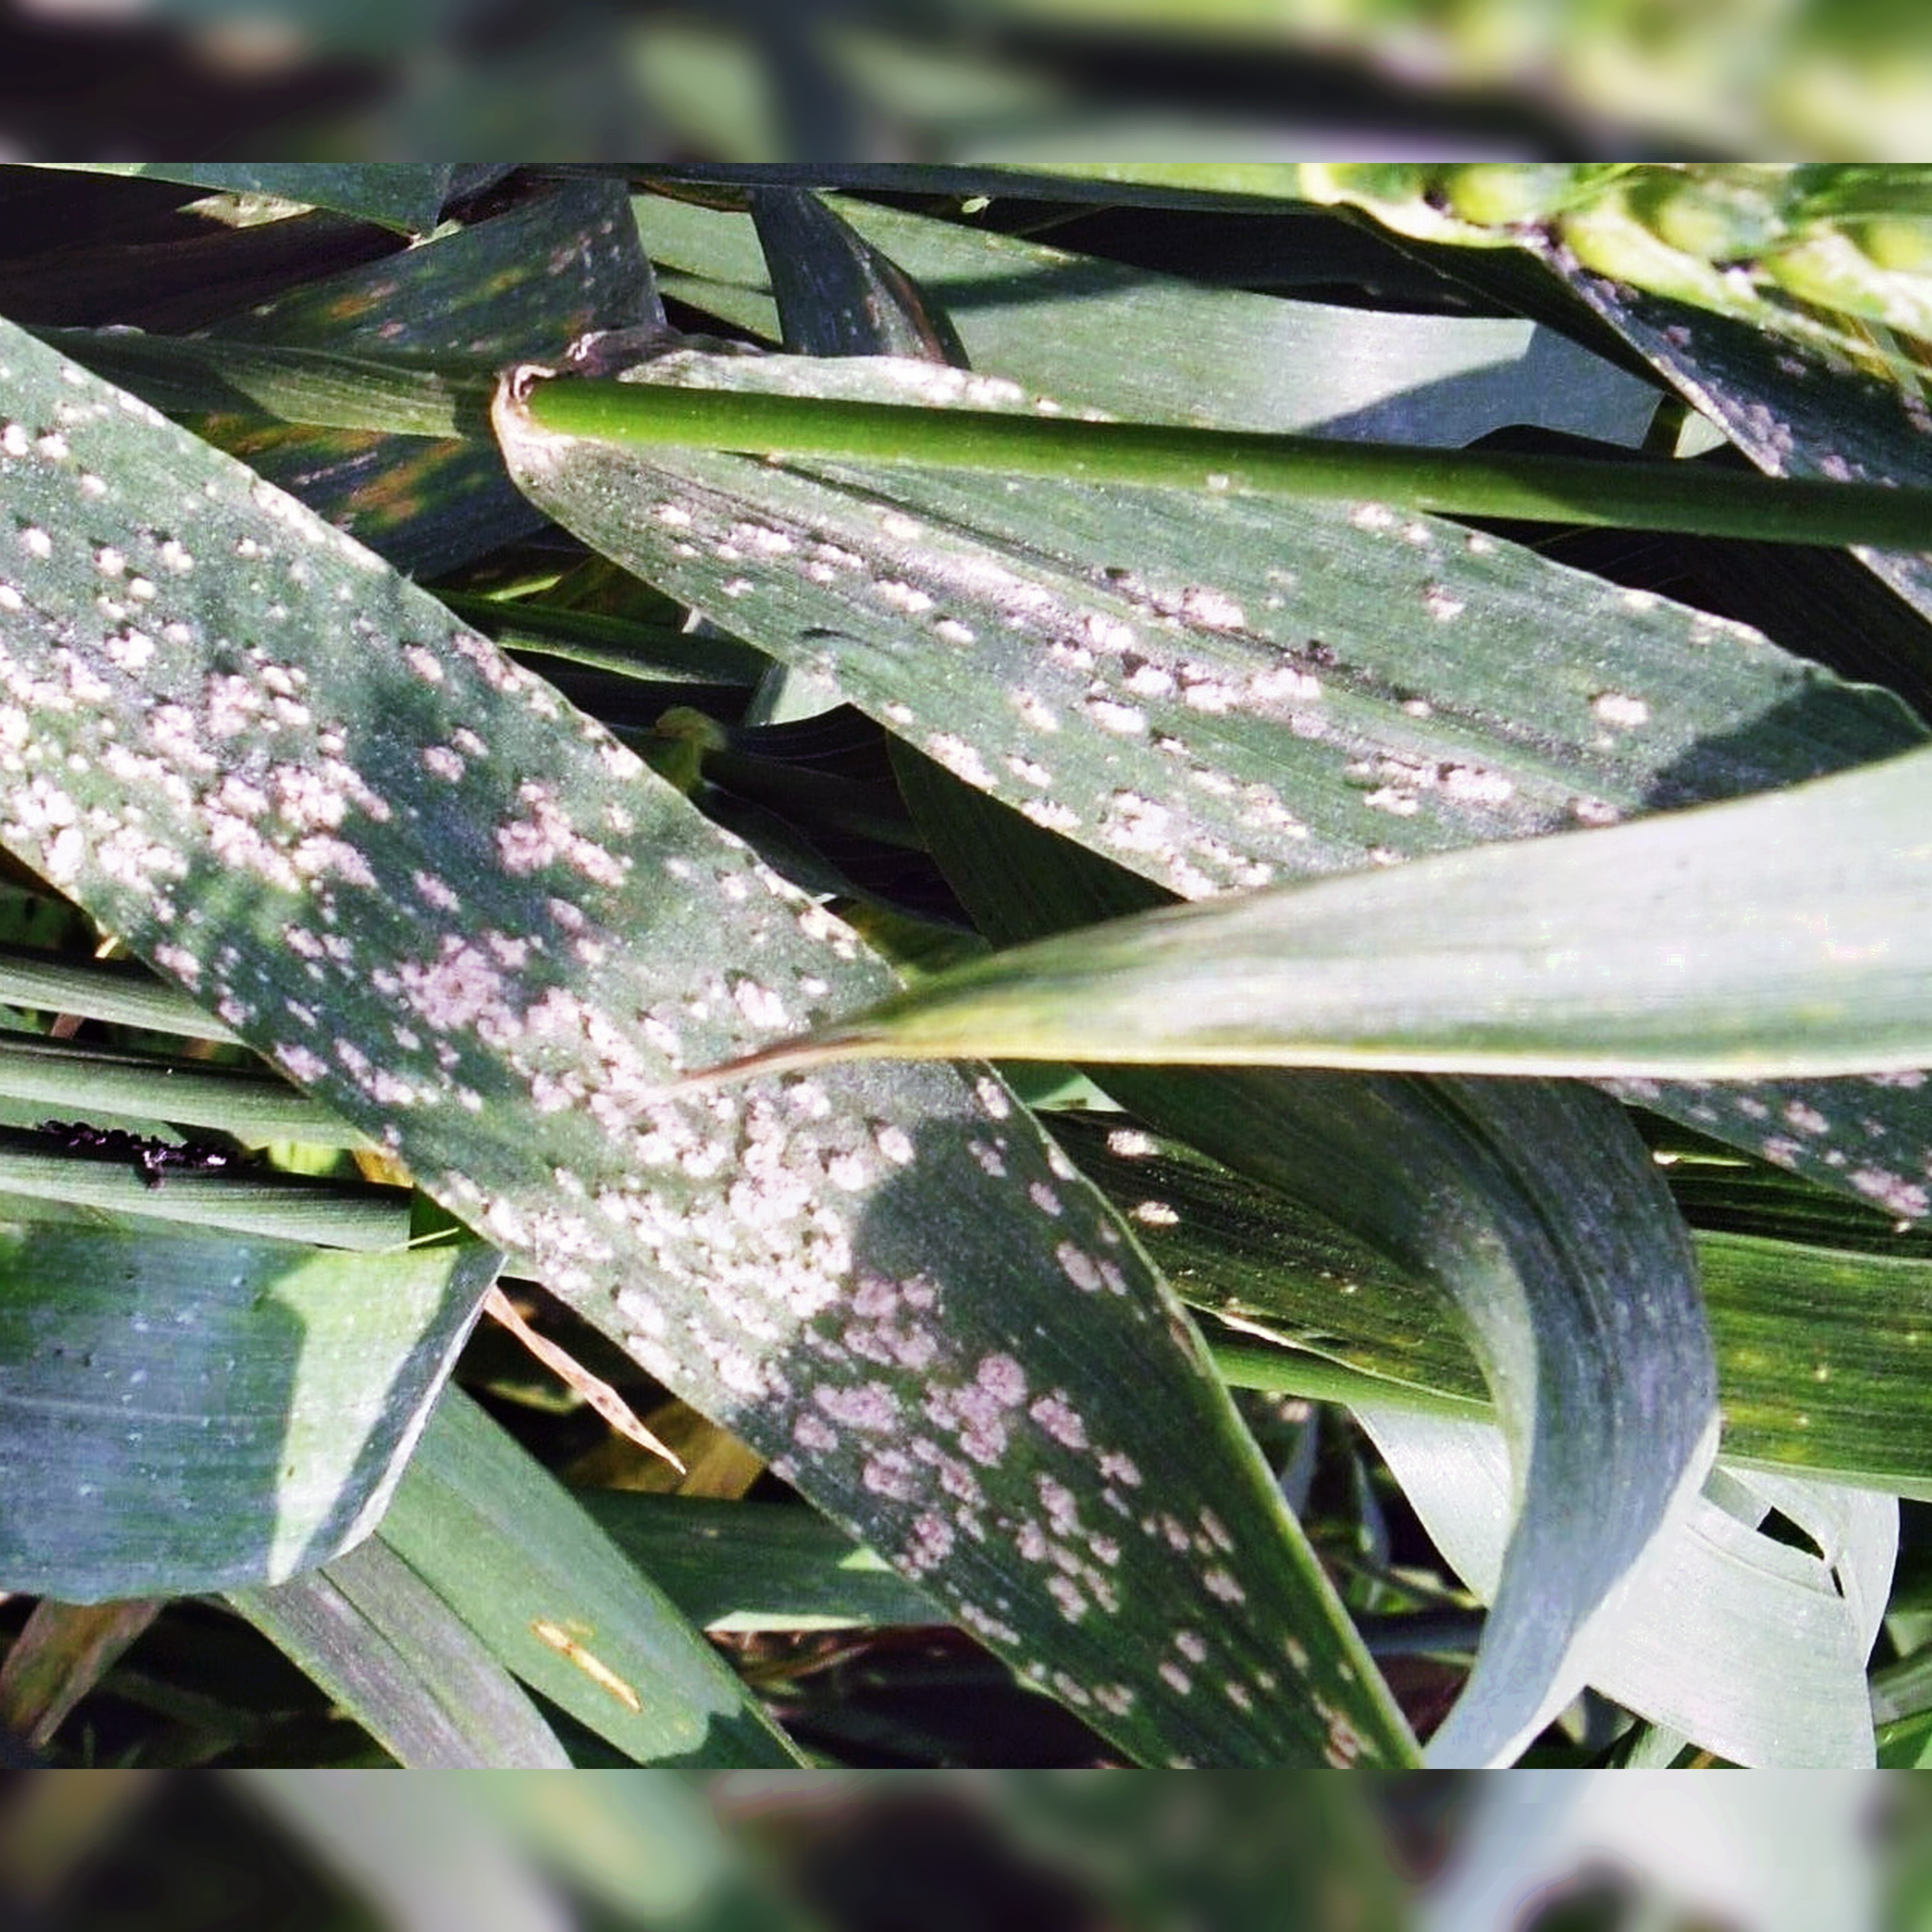Powdery Mildew: (18, 538, 1152, 1638)
